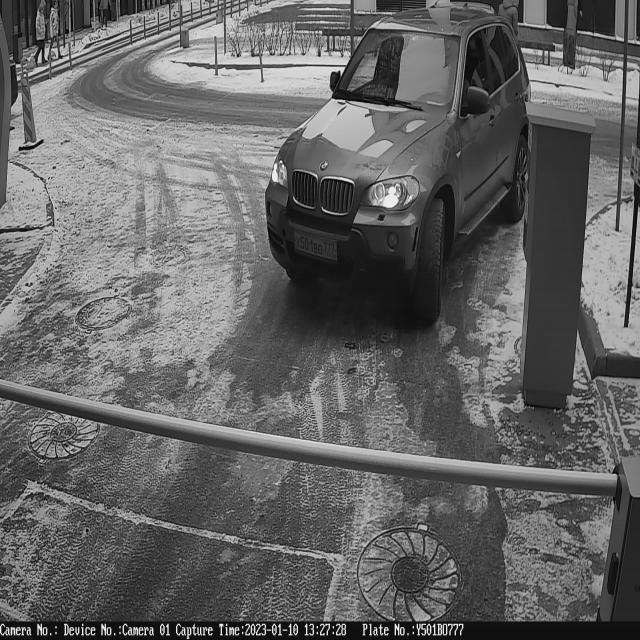car-plate-numbers: (292, 228, 340, 265)
